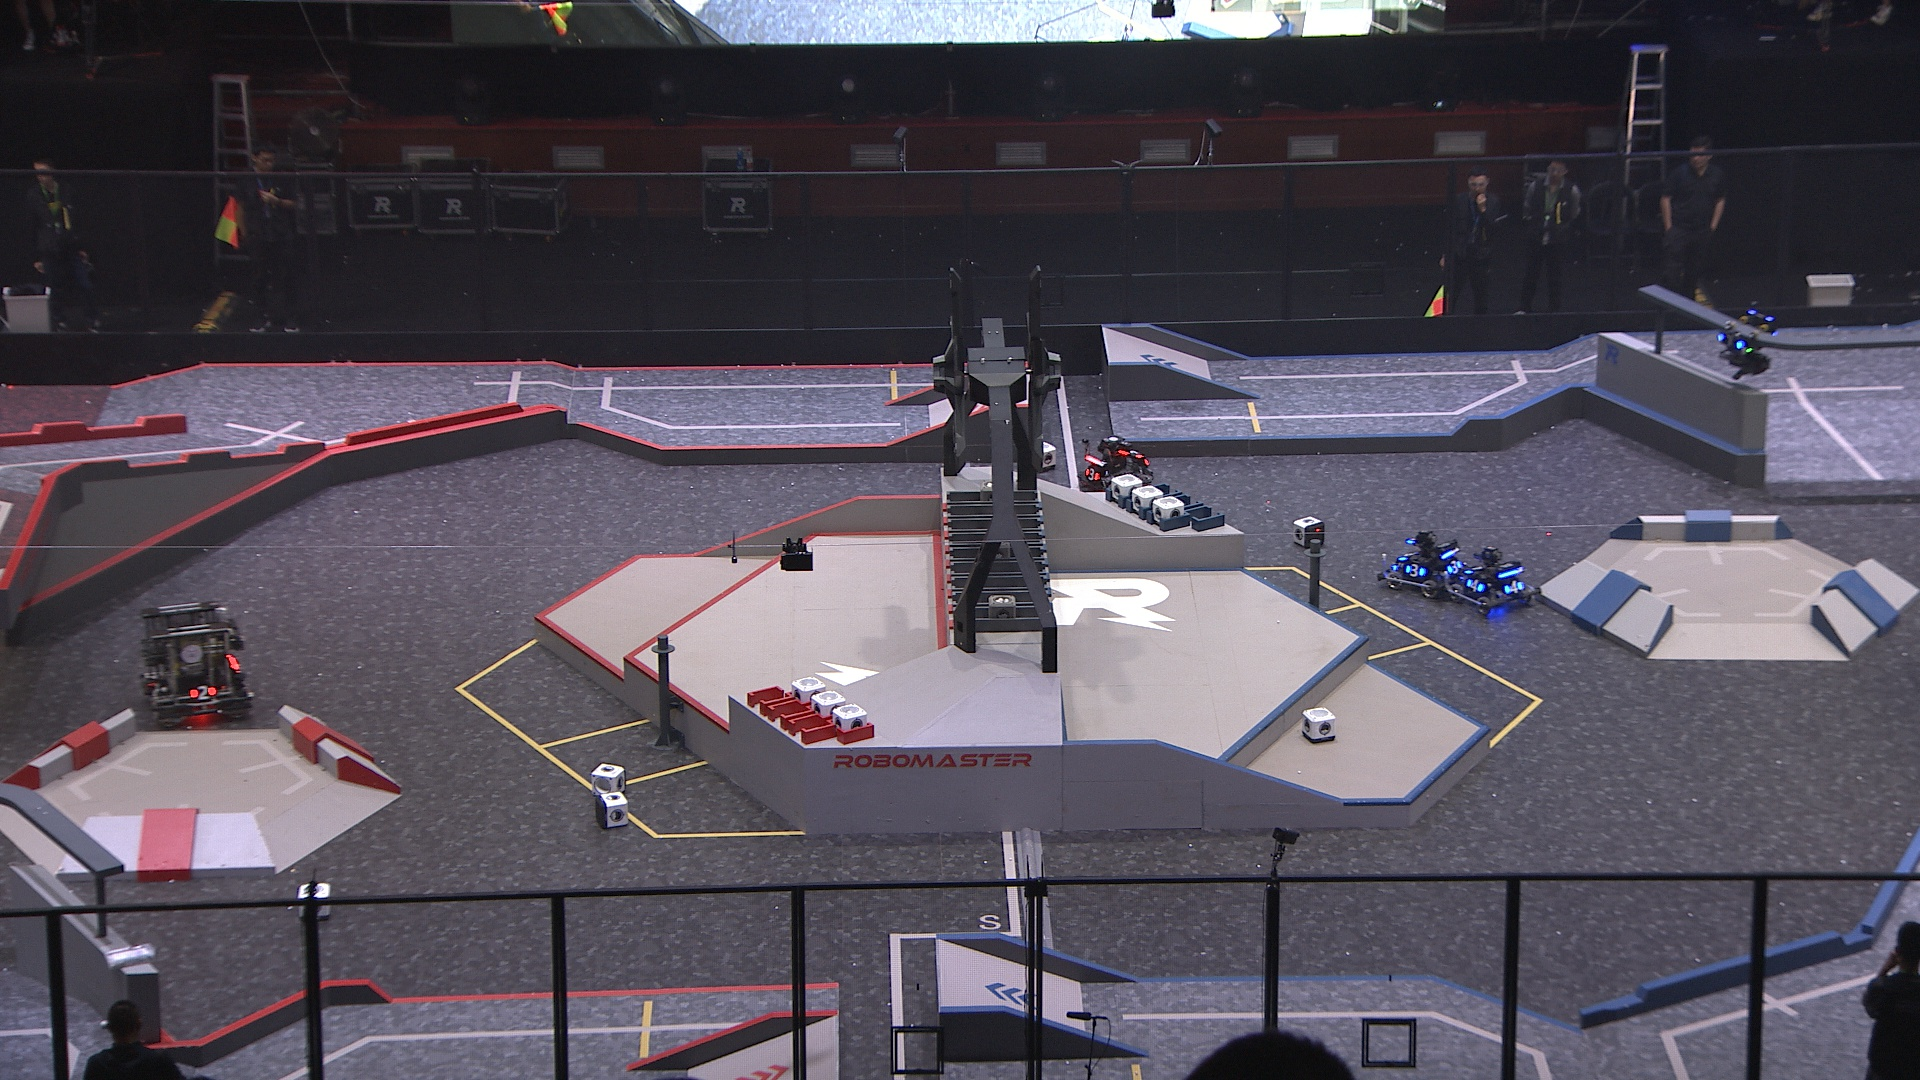armor: (1713, 328, 1746, 353), (189, 683, 218, 702), (1404, 560, 1427, 582), (144, 676, 162, 702), (1503, 576, 1524, 597), (1462, 560, 1487, 576), (1443, 556, 1462, 576), (1081, 465, 1102, 484), (1466, 576, 1487, 595), (1399, 549, 1419, 564)
car: (138, 595, 257, 731), (1437, 537, 1539, 618), (1377, 527, 1470, 599), (1073, 434, 1160, 506)
watcher: (1708, 295, 1776, 384)
